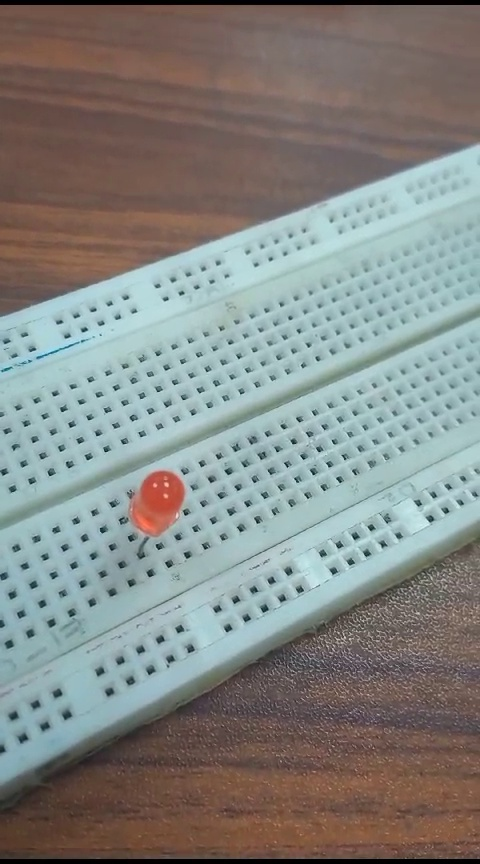LED: (127, 467, 183, 560)
